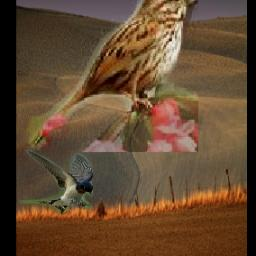Sparrow: (25, 0, 199, 152)
Swallow: (21, 150, 94, 215)
